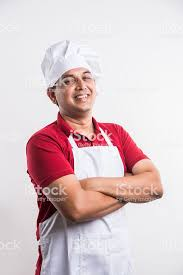Indian_Male: (55, 62, 106, 132)
